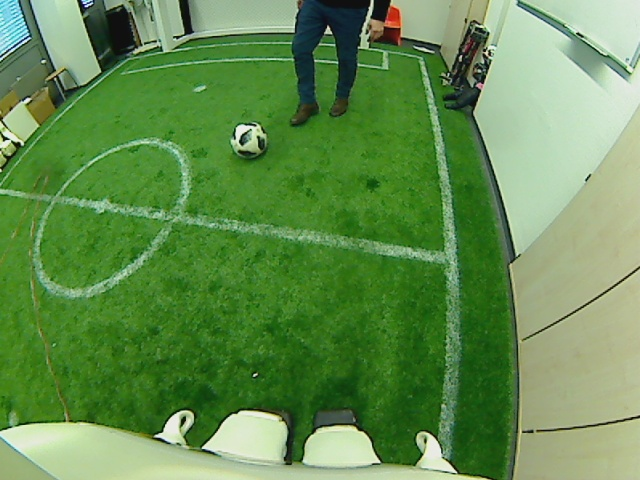ball: (228, 121, 269, 159)
